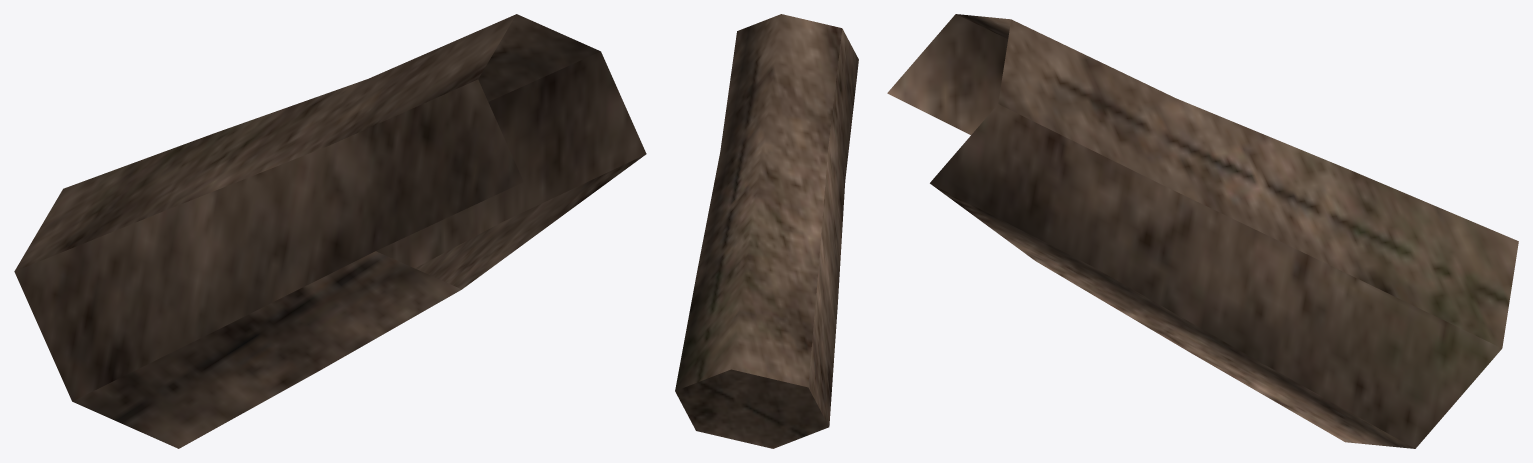
The model's file is hand_left.gltf.
3 renders of one model, left to right at view 1: azimuth 30°, elevation 25°; view 2: azimuth 150°, elevation 25°; view 3: azimuth 270°, elevation 25°, orthographic. The views are drawn at different scales.
Visible parts, largest first — view 1: doll_Hanging Doll_0.004; view 2: doll_Hanging Doll_0.004; view 3: doll_Hanging Doll_0.004.
Part boxes in pixels (bbox=[...]): doll_Hanging Doll_0.004: bbox=[14, 14, 646, 448]; doll_Hanging Doll_0.004: bbox=[675, 14, 858, 448]; doll_Hanging Doll_0.004: bbox=[887, 14, 1518, 448].
Size of the model in its own units: 52.97 by 73.73 by 84.72.
1 material, 1 textured.
